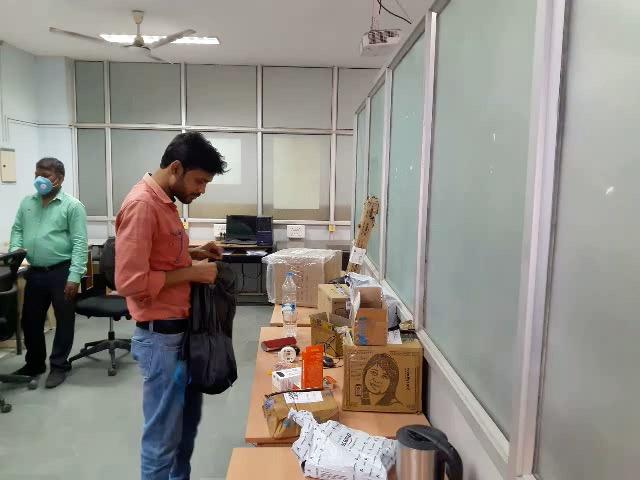Normal: (106, 127, 266, 480)
